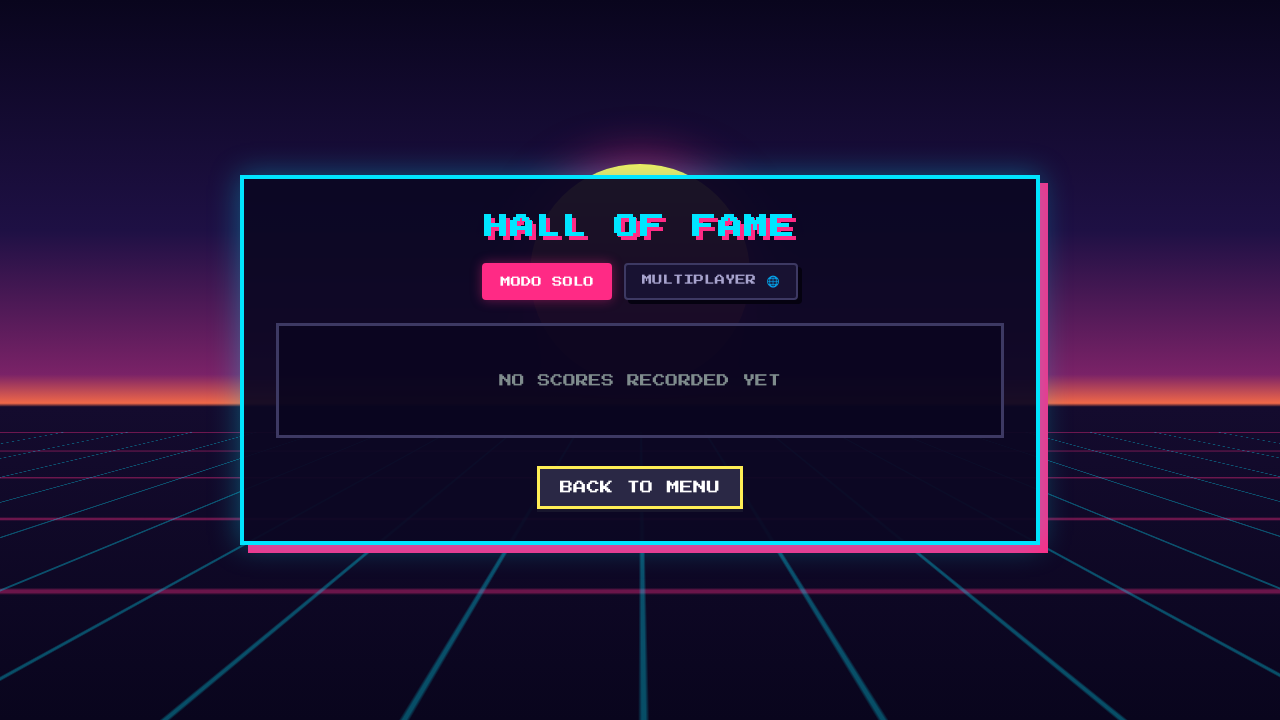
it: ScoreboardView › displays empty state message when no scores exist
Check: the text "NO SCORES RECORDED YET" is shown, box left=499, top=374, right=781, bottom=387
Click the button "MULTIPLAYER 🌐".
click(711, 282)  # box left=624, top=263, right=798, bottom=300
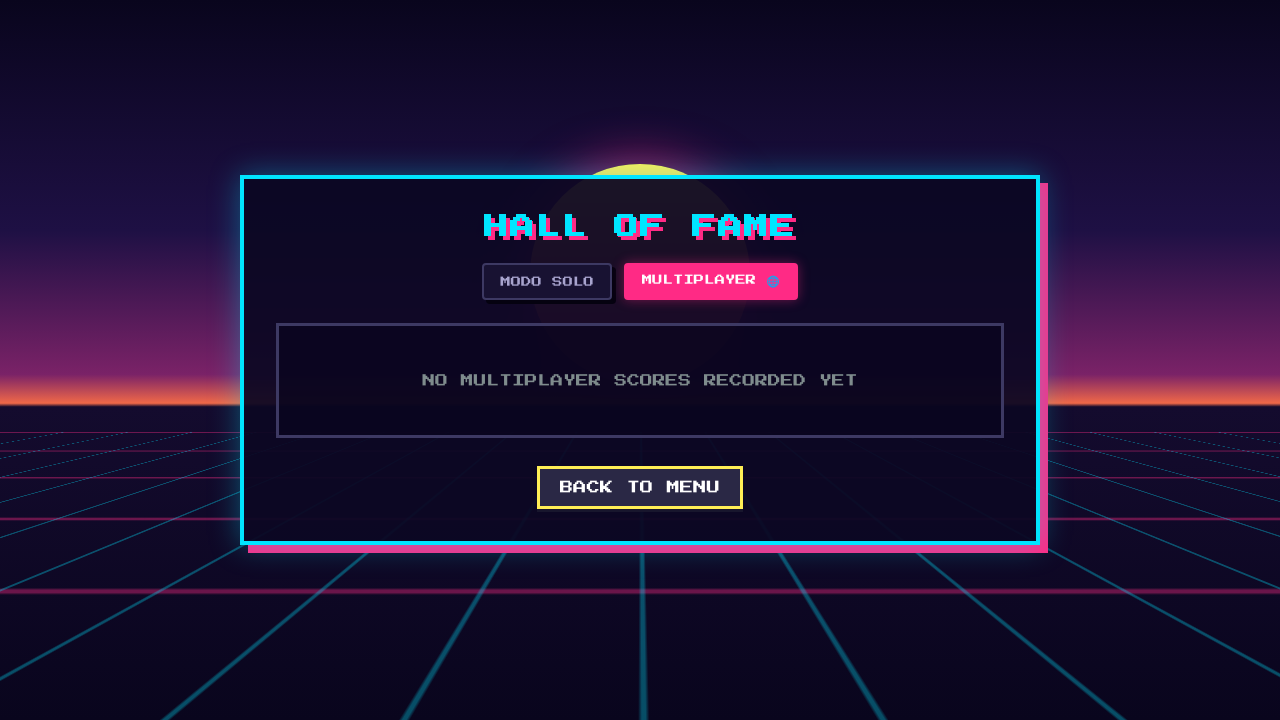
Check: the text "NO MULTIPLAYER SCORES RECORDED YET" is shown, box left=422, top=374, right=858, bottom=387
